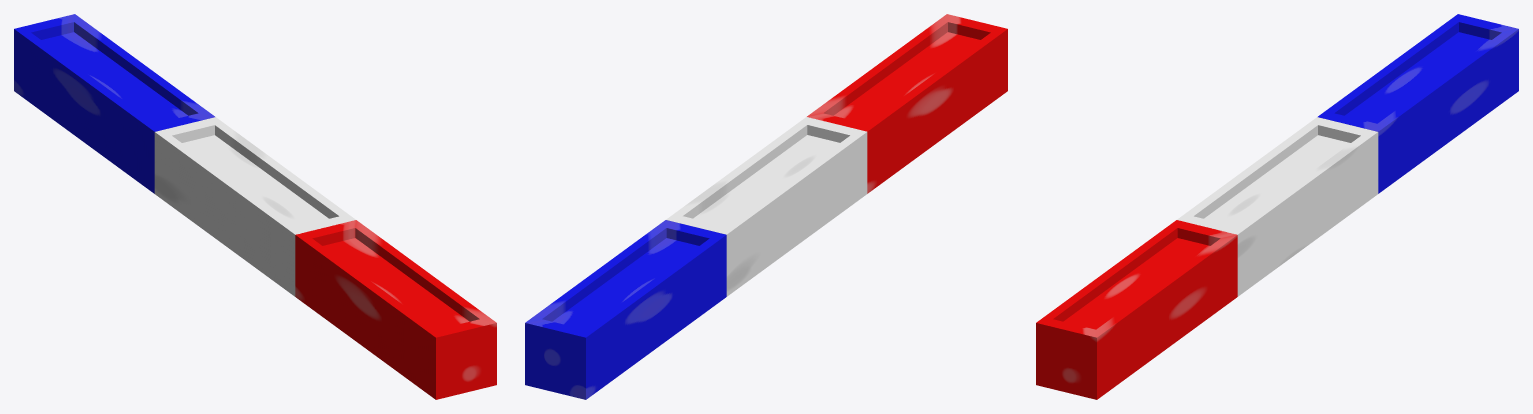
File: barrier_files.fbx
The picture shows the model from 3 angles, left to right: view 1: azimuth 30°, elevation 25°; view 2: azimuth 150°, elevation 25°; view 3: azimuth 330°, elevation 25°; orthographic projection.
Parts seen in each view (by area): view 1: Go_Kart_Track_Red, Go_Kart_Track, Go_Kart_Track_Blue; view 2: Go_Kart_Track_Blue, Go_Kart_Track, Go_Kart_Track_Red; view 3: Go_Kart_Track_Red, Go_Kart_Track, Go_Kart_Track_Blue.
Boxes of the visible parts, <box> form: Go_Kart_Track_Red: <box>295,220,496,399</box>; Go_Kart_Track: <box>154,117,355,296</box>; Go_Kart_Track_Blue: <box>14,14,214,193</box>; Go_Kart_Track_Blue: <box>525,220,726,399</box>; Go_Kart_Track: <box>666,117,867,296</box>; Go_Kart_Track_Red: <box>807,14,1007,193</box>; Go_Kart_Track_Red: <box>1036,220,1237,399</box>; Go_Kart_Track: <box>1177,117,1378,296</box>; Go_Kart_Track_Blue: <box>1318,14,1518,193</box>.
Size of the model in its own units: 282 by 275 by 3385.
3 materials, 3 textured.
